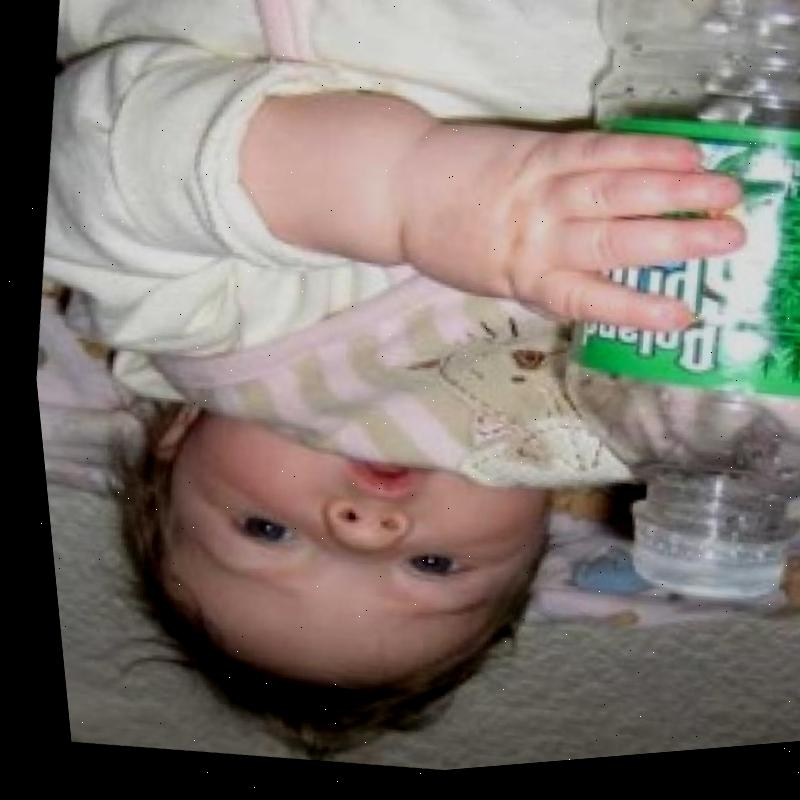botella: (493, 0, 800, 637)
